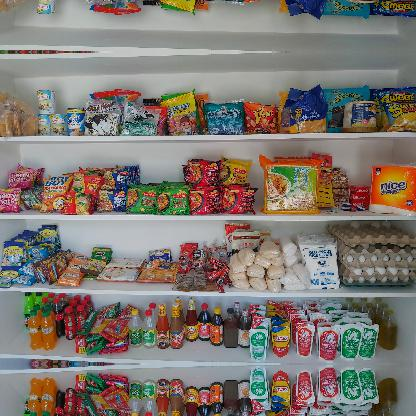Lady-s-Choice: (341, 100, 377, 132)
